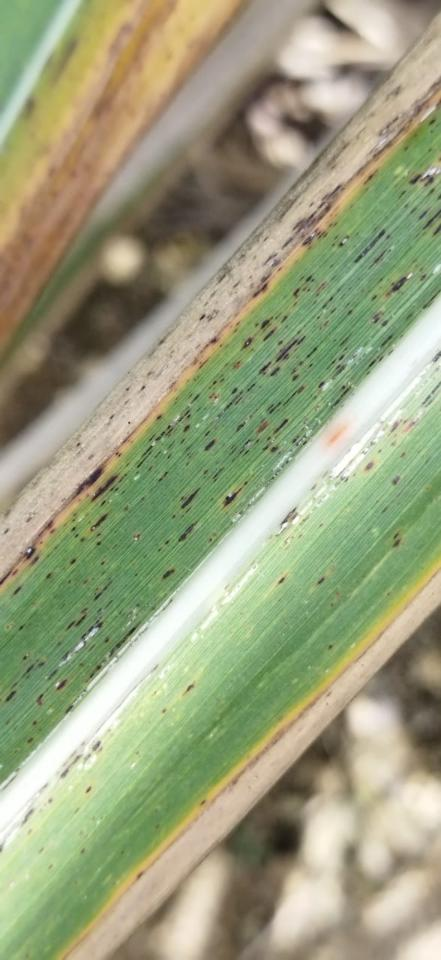RedRot: (321, 421, 351, 453)
Rust: (134, 268, 396, 528), (247, 73, 440, 299), (266, 347, 440, 552), (1, 574, 120, 747), (60, 594, 174, 718), (0, 737, 111, 863), (66, 461, 131, 550), (369, 258, 428, 349), (0, 516, 59, 599), (395, 153, 440, 239), (352, 225, 388, 265), (220, 478, 252, 511), (367, 246, 394, 272), (174, 520, 199, 544), (179, 486, 201, 511), (179, 677, 201, 700), (420, 287, 440, 310), (273, 573, 290, 589), (390, 528, 402, 550), (155, 538, 171, 554), (337, 232, 352, 249), (161, 567, 178, 581), (390, 471, 403, 488), (130, 532, 142, 543), (41, 571, 54, 581), (67, 556, 78, 567), (82, 786, 94, 795), (315, 576, 327, 585)
Yellow: (0, 90, 440, 597), (51, 547, 440, 959), (0, 0, 143, 248), (113, 0, 225, 108)
